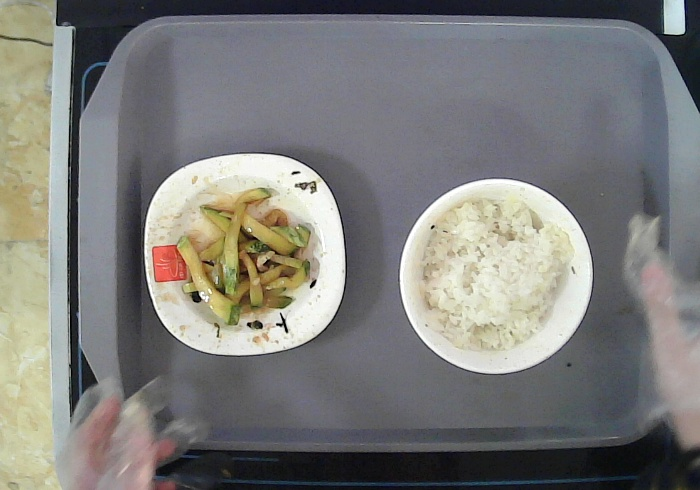SHKJ-Bai_Se_Si_Fang_Cai_Die: (134, 142, 357, 369)
SHKJ-Fan_Wan: (389, 169, 599, 384)
